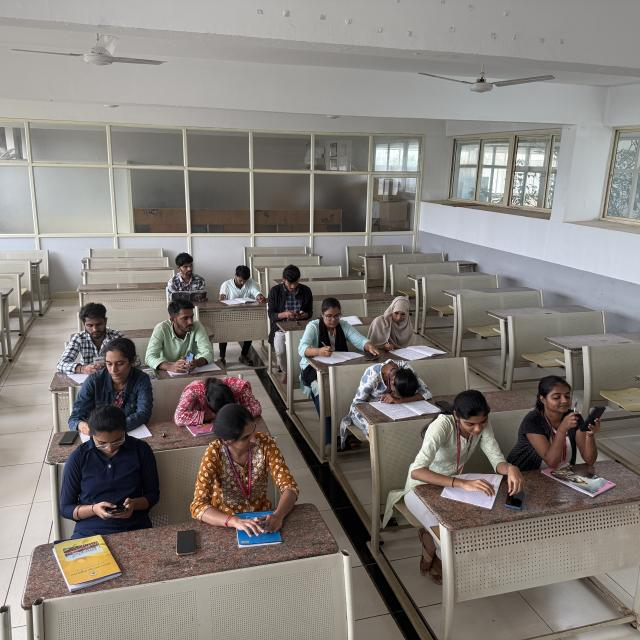Reading: (449, 388, 499, 499), (161, 248, 211, 302)
Sleeping: (180, 369, 266, 426)
Using Phone: (85, 404, 159, 525), (54, 300, 137, 374), (146, 298, 214, 368), (270, 270, 316, 319)
Writing: (377, 295, 441, 359), (301, 298, 358, 365), (219, 262, 262, 305)
